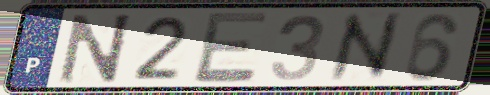2: (134, 14, 192, 82)
3: (268, 13, 327, 82)
6: (402, 10, 462, 83)
E: (191, 10, 272, 86)
N: (55, 11, 135, 85), (326, 9, 403, 85)
